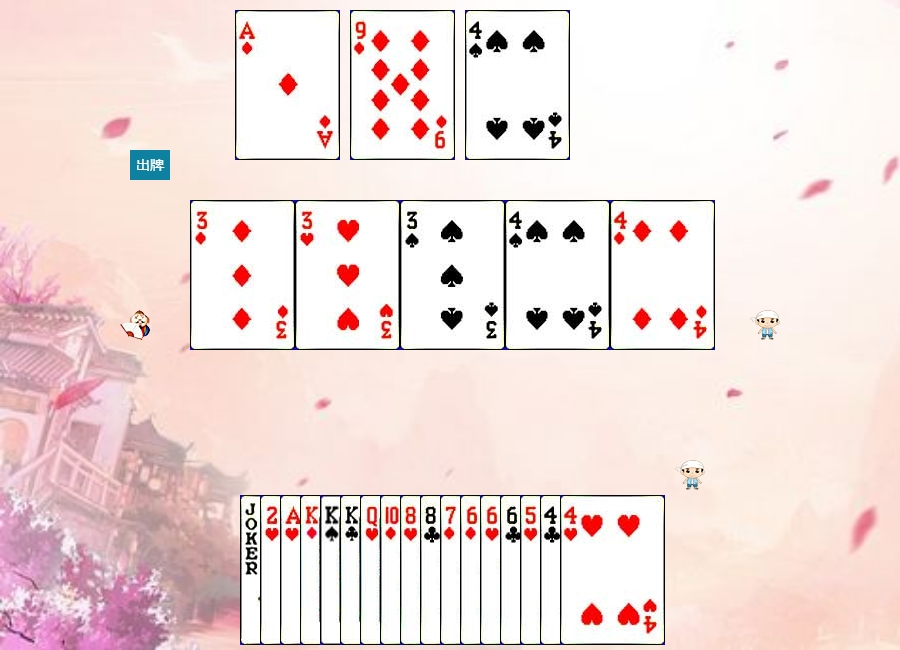10~1: (380, 495, 485, 645)
12~3: (360, 495, 465, 645)
13~1: (300, 495, 405, 645)
13~2: (340, 495, 445, 645)
13~4: (320, 495, 425, 645)
14~1: (235, 10, 340, 160)
14~3: (280, 495, 385, 645)
15~3: (260, 495, 365, 645)
17~3: (240, 495, 345, 645)
3~1: (190, 200, 295, 350)
3~3: (295, 200, 400, 350)
3~4: (400, 200, 505, 350)
4~1: (610, 200, 715, 350)
4~2: (540, 495, 645, 645)
4~3: (560, 495, 665, 645)
4~4: (465, 10, 570, 160), (505, 200, 610, 350)
5~3: (520, 495, 625, 645)
6~1: (460, 495, 565, 645)
6~2: (500, 495, 605, 645)
6~3: (480, 495, 585, 645)
7~1: (440, 495, 545, 645)
8~2: (420, 495, 525, 645)
8~3: (400, 495, 505, 645)
9~1: (350, 10, 455, 160)
